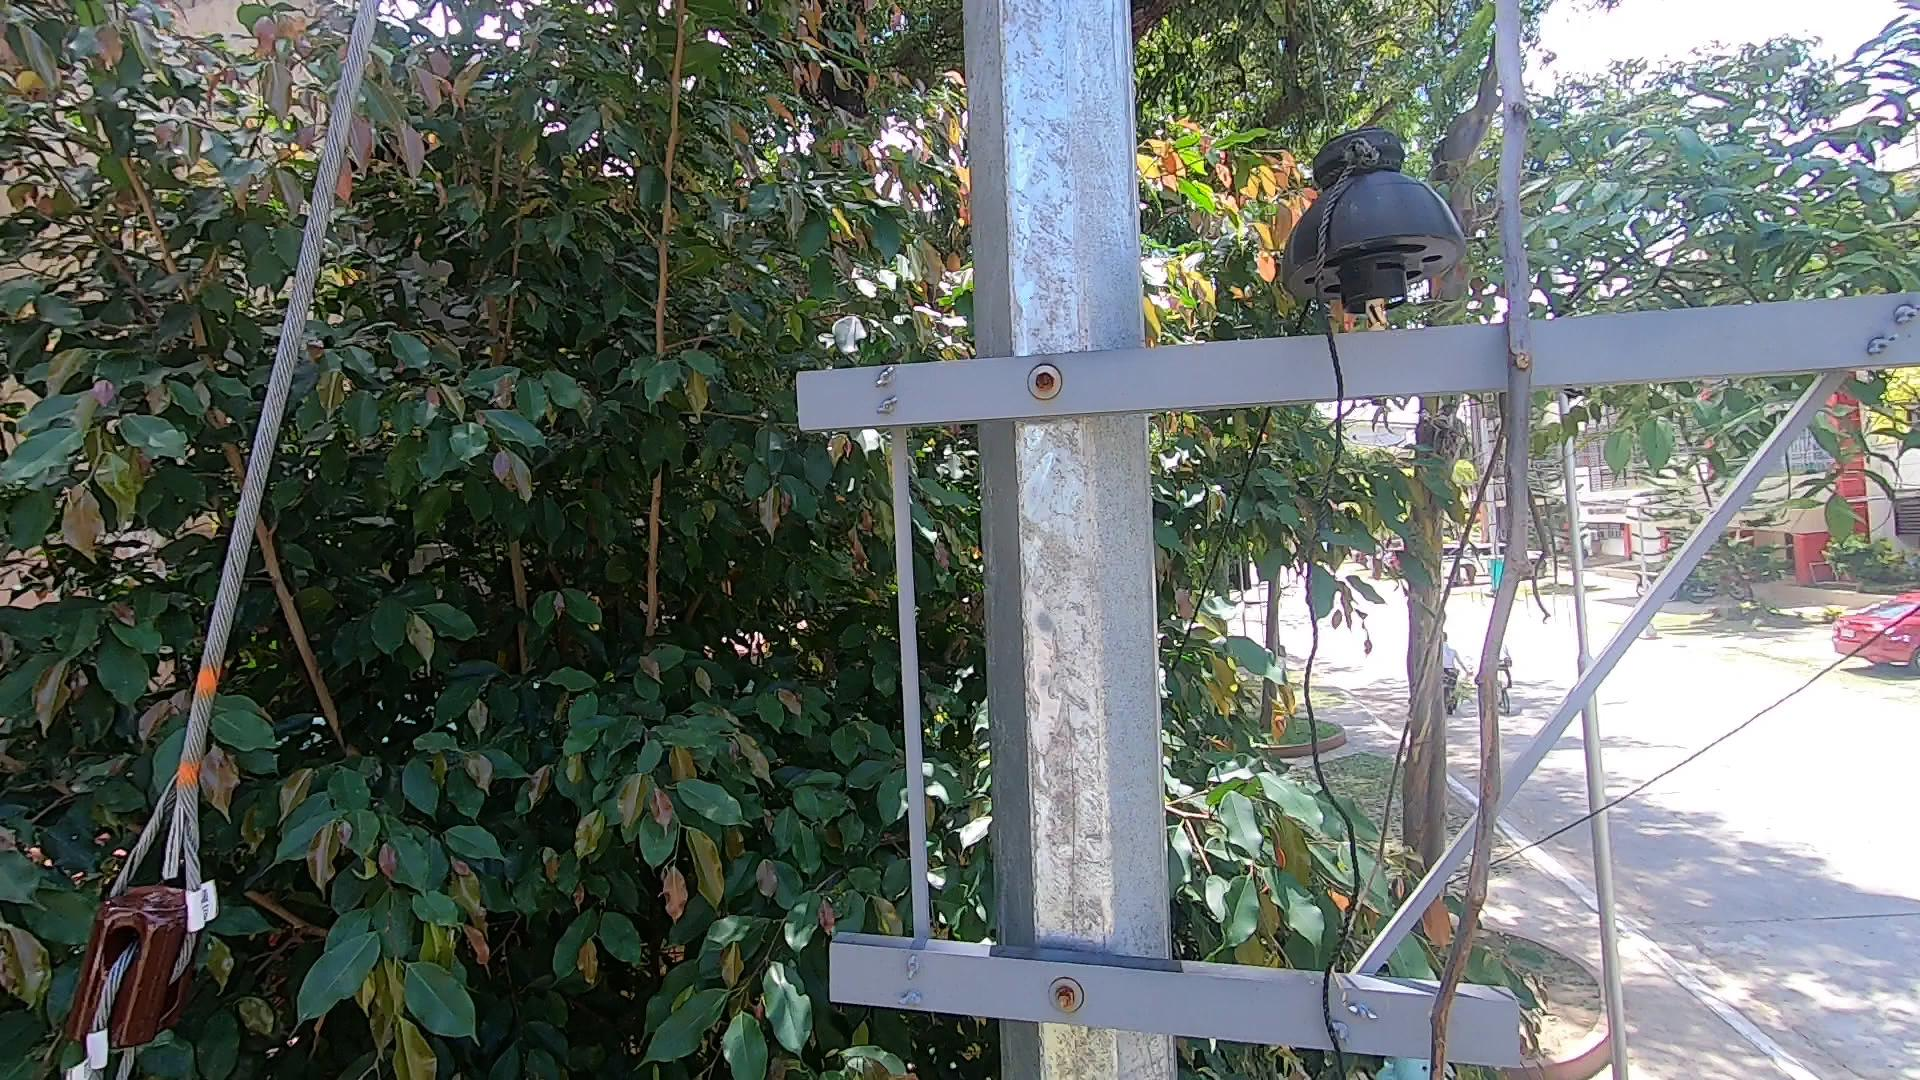branch with leaves: (1327, 873, 1552, 1036)
tree branch: (1431, 5, 1563, 1080)
